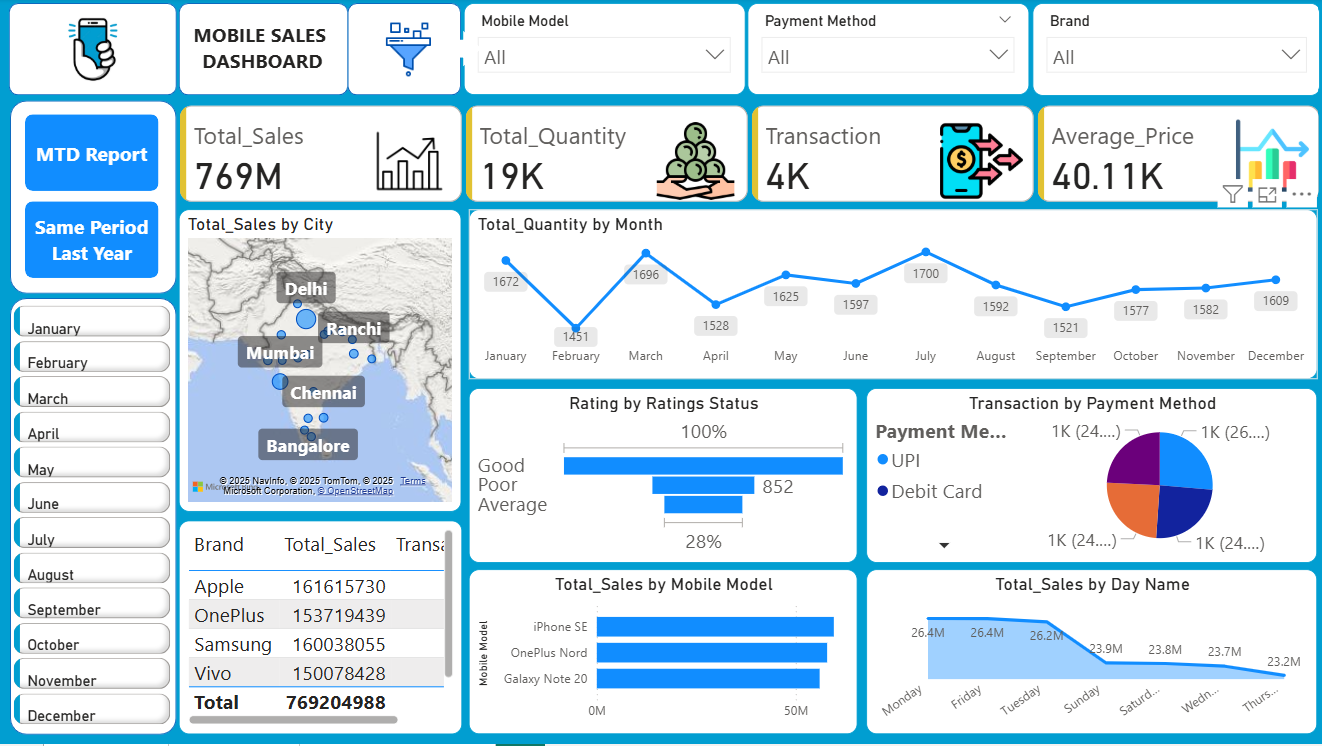

What the dashboard file says about the page in this screenshot:
{"tool":"powerbi","page":{"name":"Dashboard","canvas":[1280,720],"ordinal":0},"visuals":[{"type":"shape","box":[8.1,5.4,162.2,89.2],"z":0},{"type":"image","box":[8.1,5.4,162.2,89.2],"z":1000},{"type":"shape","box":[9.5,98.6,160.8,186.5],"z":2000},{"type":"shape","box":[9.5,289.2,160.8,421.6],"z":3000},{"type":"advancedSlicerVisual","fields":{"Values":["Custom_Calender.Date.Variation.Date Hierarchy.Month"]},"box":[8.4,292,161.7,415],"z":4000},{"type":"cardVisual","fields":{"Data":["Sales_Data.Total_Sales","Sales_Data.Total_Quantity","Sales_Data.Transaction","Sales_Data.Average_Price"]},"box":[168.9,98.9,1111.1,103.8],"z":5000},{"type":"slicer","fields":{"Values":["Sales_Data.Mobile Model"]},"box":[447.3,5.4,271.6,89.2],"z":6000},{"type":"slicer","fields":{"Values":["Sales_Data.Payment Method"]},"box":[721.6,5.4,271.6,89.2],"z":7000},{"type":"slicer","fields":{"Values":["Sales_Data.Brand"]},"box":[996.5,4.8,278.7,89.3],"z":8000},{"type":"shape","box":[335.1,5.4,109.5,89.2],"z":9000},{"type":"image","box":[335.1,17.6,117.6,63.5],"z":10000},{"type":"shape","box":[425.9,31.4,38.6,35],"z":11000},{"type":"shape","box":[173,5.4,163.5,89.2],"z":12000},{"type":"textbox","box":[179.8,18.1,147.2,62.7],"z":13000},{"type":"map","fields":{"Category":["Sales_Data.City"],"Size":["Sales_Data.Total_Sales"]},"box":[172.5,203.9,272.7,292],"z":14000},{"type":"lineChart","fields":{"Y":["Sales_Data.Total_Quantity"],"Category":["Custom_Calender.Date.Variation.Date Hierarchy.Month"]},"box":[452.4,203.9,819.2,164.1],"z":15000},{"type":"funnel","title":"Rating by Ratings Status","fields":{"Y":["CountNonNull(Sales_Data.Customer Ratings)"],"Category":["Sales_Data.Rating_Status"]},"box":[452.4,376.4,375.2,168.9],"z":16000},{"type":"pieChart","fields":{"Y":["Sales_Data.Transaction"],"Category":["Sales_Data.Payment Method"]},"box":[836.1,376.4,435.5,168.9],"z":17000},{"type":"clusteredBarChart","fields":{"Y":["Sales_Data.Total_Sales"],"Category":["Sales_Data.Mobile Model"]},"box":[452.4,551.3,375.2,159.3],"z":18000},{"type":"areaChart","fields":{"Y":["Sales_Data.Total_Sales"],"Category":["Custom_Calender.Day Name"]},"box":[836.1,551.3,435.5,159.3],"z":19000},{"type":"tableEx","fields":{"Values":["Sales_Data.Brand","Sales_Data.Total_Sales","Sales_Data.Transaction"]},"box":[172.5,504.3,273.9,206.3],"z":20000},{"type":"pageNavigator","box":[24.1,112.2,129.1,159.3],"z":21000}]}

Visuals, with their boxes in screenshot pixels (x1, y1, x2, y2), scaled from the page's 1280x720 canvas onto the 1322x746 screenshot:
shape: bbox(8, 6, 176, 98)
image: bbox(8, 6, 176, 98)
shape: bbox(10, 102, 176, 295)
shape: bbox(10, 300, 176, 736)
advancedSlicerVisual - Custom_Calender.Date.Variation.Date Hierarchy.Month: bbox(9, 303, 176, 733)
cardVisual - Sales_Data.Total_Sales x Sales_Data.Total_Quantity: bbox(174, 102, 1321, 210)
slicer - Sales_Data.Mobile Model: bbox(462, 6, 742, 98)
slicer - Sales_Data.Payment Method: bbox(745, 6, 1026, 98)
slicer - Sales_Data.Brand: bbox(1029, 5, 1317, 97)
shape: bbox(346, 6, 459, 98)
image: bbox(346, 18, 468, 84)
shape: bbox(440, 33, 480, 69)
shape: bbox(179, 6, 348, 98)
textbox: bbox(186, 19, 338, 84)
map - Sales_Data.City x Sales_Data.Total_Sales: bbox(178, 211, 460, 514)
lineChart - Sales_Data.Total_Quantity x Custom_Calender.Date.Variation.Date Hierarchy.Month: bbox(467, 211, 1313, 381)
"Rating by Ratings Status" funnel: bbox(467, 390, 855, 565)
pieChart - Sales_Data.Transaction x Sales_Data.Payment Method: bbox(864, 390, 1313, 565)
clusteredBarChart - Sales_Data.Total_Sales x Sales_Data.Mobile Model: bbox(467, 571, 855, 736)
areaChart - Sales_Data.Total_Sales x Custom_Calender.Day Name: bbox(864, 571, 1313, 736)
tableEx - Sales_Data.Brand x Sales_Data.Total_Sales: bbox(178, 523, 461, 736)
pageNavigator: bbox(25, 116, 158, 281)
